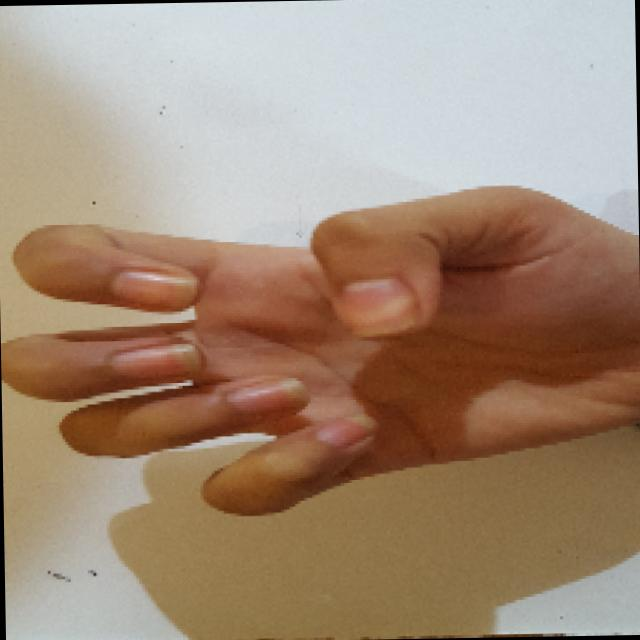Nail: (343, 279, 417, 335), (112, 342, 201, 380), (112, 270, 197, 309), (226, 378, 309, 413), (316, 414, 374, 445)
